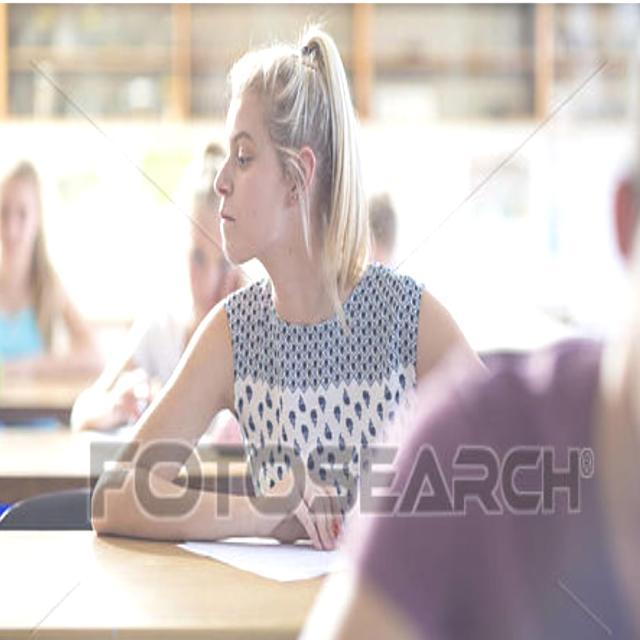cheating: (92, 37, 497, 451)
